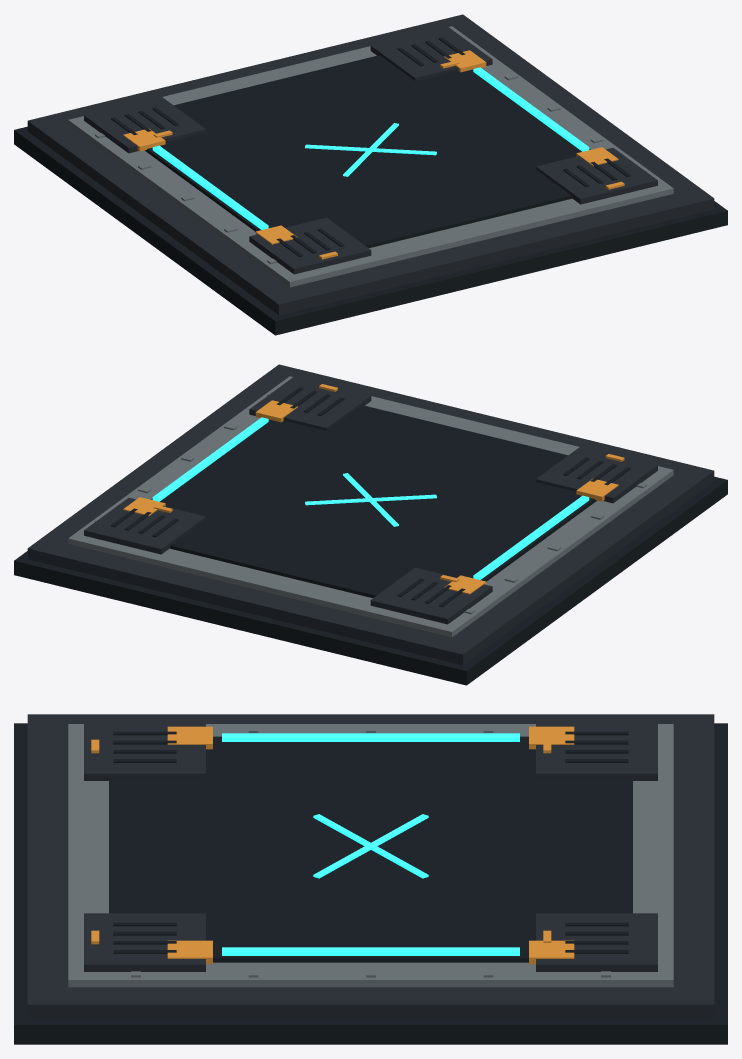
Rendered from dock_item.glb.
3 renders of one model, top to bottom at view 1: azimuth 30°, elevation 25°; view 2: azimuth 150°, elevation 25°; view 3: azimuth 270°, elevation 25°, orthographic. The views are drawn at different scales.
Parts seen in each view (by area): view 1: DockDeck.003, DockDeck.001, DockDeck.002, DockDeck, ServiceDeckPanel, ServiceDeckPanel.002, ServiceDeckPanel.001, ServiceDeckPanel.003, ContactRail, ContactRail.001, LandingCross, LandingContact.001 (+1 smaller); view 2: DockDeck.003, DockDeck.001, DockDeck.002, DockDeck, ServiceDeckPanel.001, ServiceDeckPanel.003, ServiceDeckPanel, ServiceDeckPanel.002, ContactRail, ContactRail.001, LandingCross.001, LandingContact (+1 smaller); view 3: DockDeck.003, DockDeck.001, DockDeck.002, DockDeck, ServiceDeckPanel.003, ServiceDeckPanel.002, ServiceDeckPanel.001, ServiceDeckPanel, ContactRail, ContactRail.001, LandingContact.002, LandingContact (+4 smaller).
Boxes of the visible parts, x1=… form: DockDeck.003: x1=145, y1=55, x2=590, y2=247; DockDeck.001: x1=27, y1=14, x2=714, y2=315; DockDeck.002: x1=68, y1=26, x2=673, y2=287; DockDeck: x1=14, y1=126, x2=727, y2=335; ServiceDeckPanel: x1=249, y1=217, x2=371, y2=274; ServiceDeckPanel.002: x1=536, y1=147, x2=657, y2=204; ServiceDeckPanel.001: x1=84, y1=96, x2=205, y2=153; ServiceDeckPanel.003: x1=370, y1=26, x2=492, y2=80; ContactRail: x1=152, y1=145, x2=268, y2=229; ContactRail.001: x1=473, y1=67, x2=589, y2=151; LandingCross: x1=305, y1=144, x2=436, y2=155; LandingContact.001: x1=123, y1=128, x2=165, y2=151; DockDeck.003: x1=151, y1=405, x2=596, y2=597; DockDeck.001: x1=27, y1=364, x2=714, y2=665; DockDeck.002: x1=68, y1=376, x2=673, y2=637; DockDeck: x1=14, y1=476, x2=727, y2=685; ServiceDeckPanel.001: x1=370, y1=567, x2=492, y2=624; ServiceDeckPanel.003: x1=84, y1=497, x2=205, y2=554; ServiceDeckPanel: x1=536, y1=446, x2=657, y2=503; ServiceDeckPanel.002: x1=249, y1=376, x2=371, y2=430; ContactRail: x1=473, y1=495, x2=589, y2=579; ContactRail.001: x1=152, y1=417, x2=268, y2=501; LandingCross.001: x1=305, y1=494, x2=436, y2=505; LandingContact: x1=576, y1=478, x2=618, y2=501; DockDeck.003: x1=109, y1=736, x2=632, y2=962; DockDeck.001: x1=27, y1=714, x2=714, y2=1019; DockDeck.002: x1=68, y1=724, x2=673, y2=987; DockDeck: x1=14, y1=723, x2=727, y2=1044; ServiceDeckPanel.003: x1=536, y1=913, x2=657, y2=971; ServiceDeckPanel.002: x1=84, y1=913, x2=205, y2=971; ServiceDeckPanel.001: x1=536, y1=722, x2=657, y2=780; ServiceDeckPanel: x1=84, y1=722, x2=205, y2=780; ContactRail: x1=222, y1=733, x2=519, y2=741; ContactRail.001: x1=222, y1=947, x2=519, y2=955; LandingContact.002: x1=167, y1=940, x2=212, y2=964; LandingContact: x1=167, y1=726, x2=212, y2=749.
Size of the model in its own units: 7.9 by 0.65 by 7.9.
